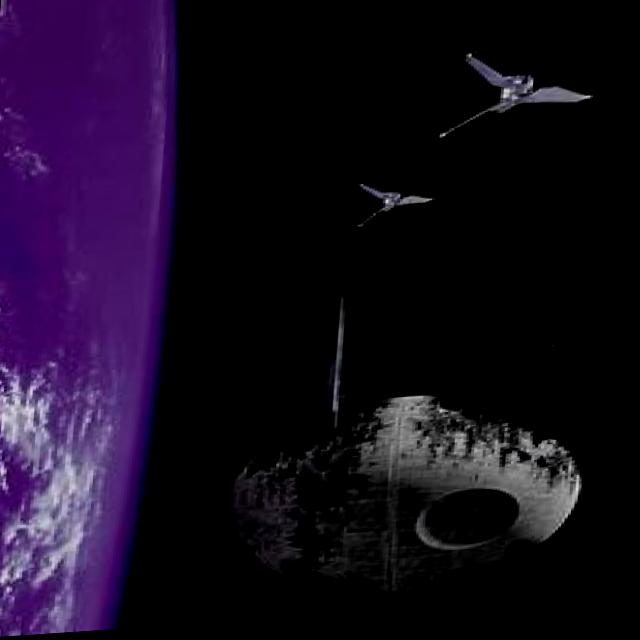deathStar: (233, 389, 593, 607)
